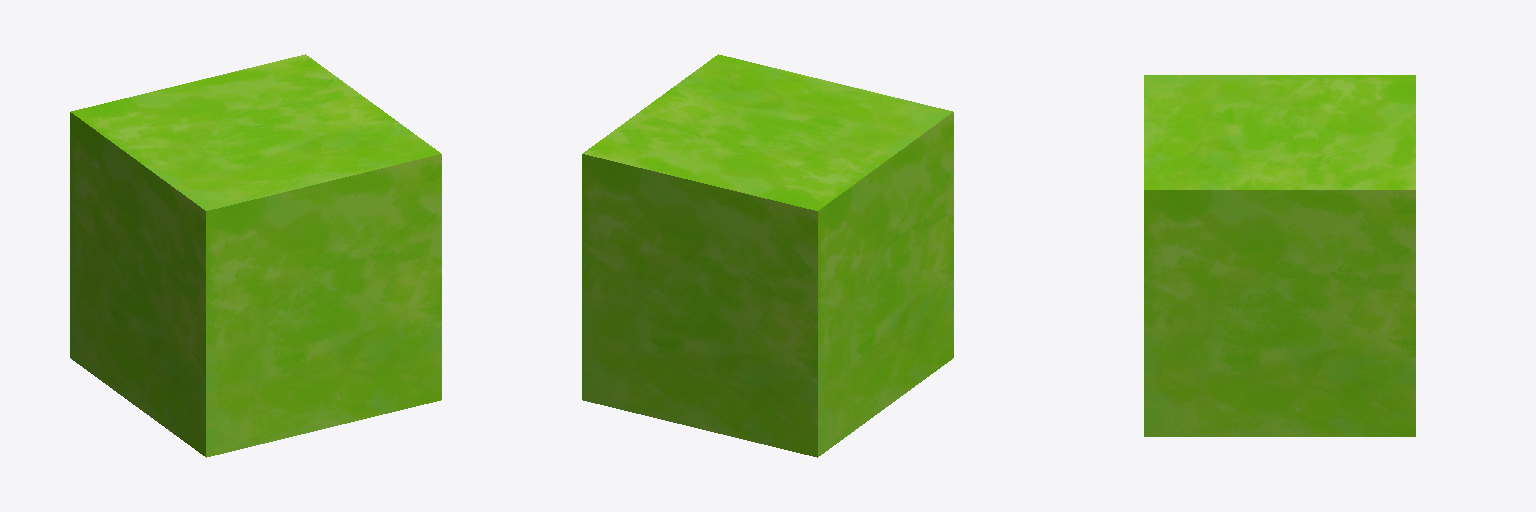
The picture shows the model from 3 angles: view 1: azimuth 30°, elevation 25°; view 2: azimuth 150°, elevation 25°; view 3: azimuth 270°, elevation 25°; orthographic projection.
Parts seen in each view (by area): view 1: FMeshPart; view 2: FMeshPart; view 3: FMeshPart.
Part boxes in pixels (x1,y1,x2,y2): FMeshPart: (70, 54, 441, 457); FMeshPart: (582, 54, 953, 457); FMeshPart: (1144, 75, 1415, 436).
Bounding box in the file's own units: 20 × 20 × 20.
1 materials, 1 textured.